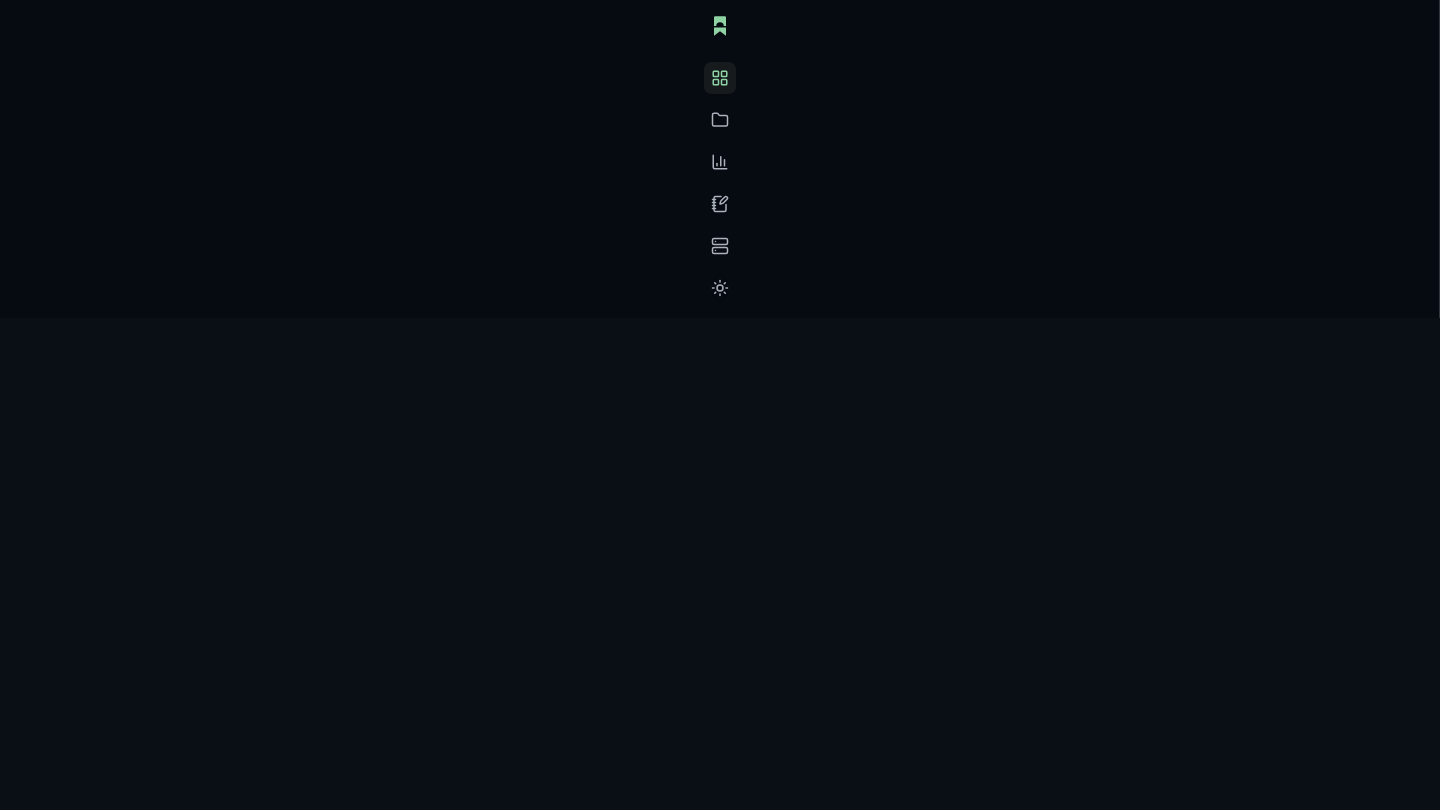
it: the theme switch names the theme it switches to
Click the button named "Light theme": (720, 288) [704, 272, 736, 304]
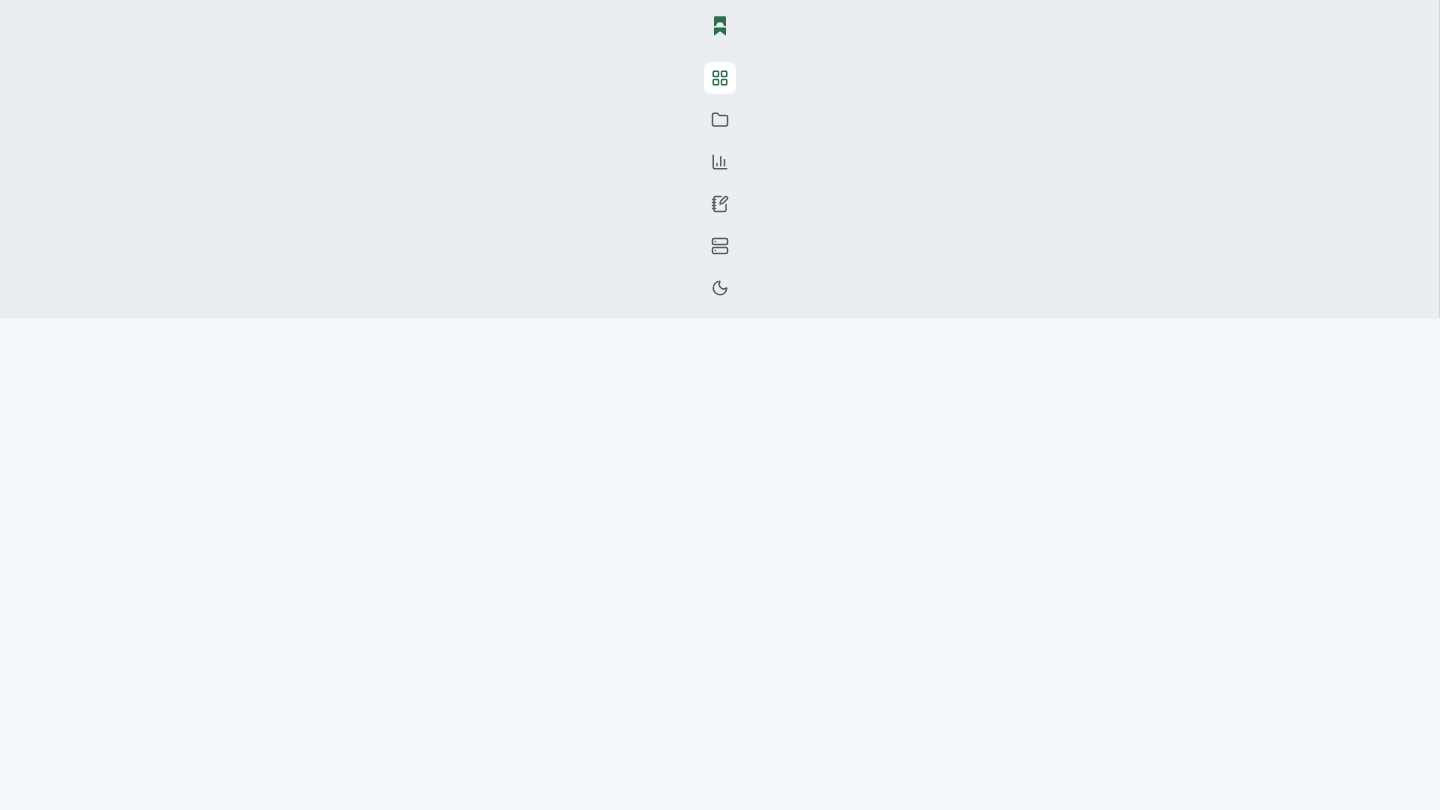
Expected: the button named "Dark theme" has attribute title="Dark theme", [704, 272, 736, 304]
